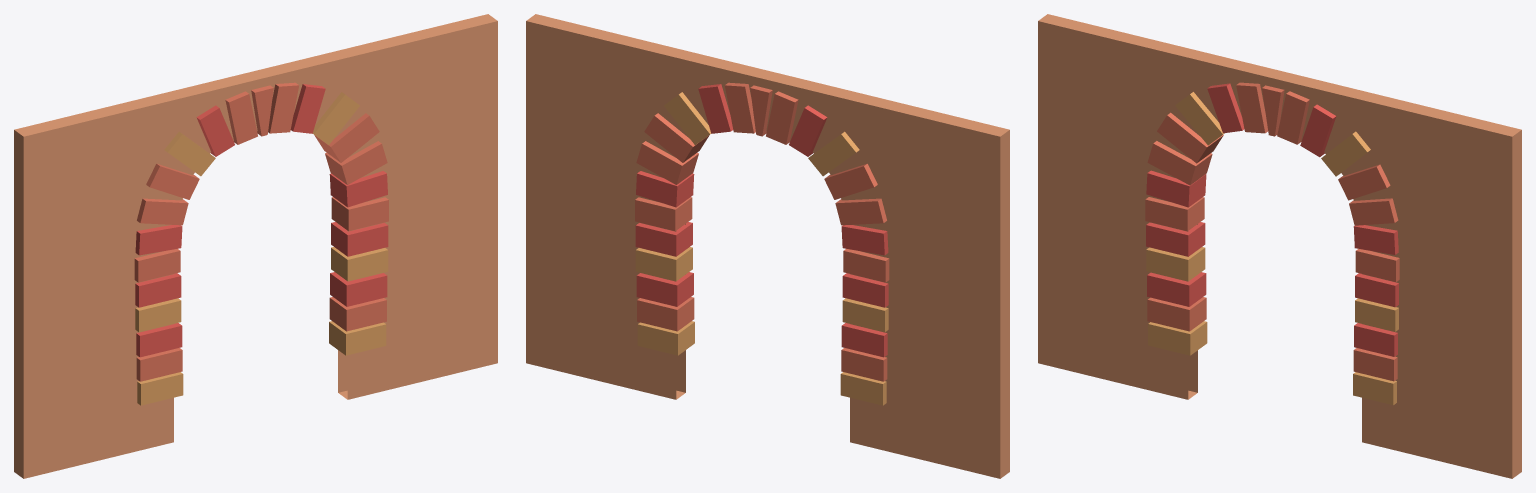
Rendered from wall arch.fbx.
3 renders of one model, left to right at view 1: azimuth 30°, elevation 25°; view 2: azimuth 150°, elevation 25°; view 3: azimuth 330°, elevation 25°, orthographic.
Visible parts, largest first — view 1: polySurface970, polySurface977, polySurface958, polySurface959, polySurface975, polySurface979, polySurface976, polySurface960, polySurface973, polySurface974, polySurface978, polySurface969 (+14 smaller); view 2: polySurface970, polySurface977, polySurface958, polySurface959, polySurface975, polySurface979, polySurface976, polySurface960, polySurface973, polySurface974, polySurface978, polySurface969 (+14 smaller); view 3: polySurface970, polySurface965, polySurface963, polySurface962, polySurface967, polySurface964, polySurface966, polySurface969, polySurface961, polySurface968, polySurface982, polySurface981 (+14 smaller).
Part boxes in pixels (left/top/right/bottom): polySurface970: left=14, top=14, right=497, bottom=478; polySurface977: left=330, top=272, right=387, bottom=306; polySurface958: left=331, top=222, right=388, bottom=256; polySurface959: left=331, top=247, right=388, bottom=281; polySurface975: left=329, top=297, right=386, bottom=331; polySurface979: left=331, top=197, right=388, bottom=231; polySurface976: left=329, top=321, right=386, bottom=355; polySurface960: left=329, top=171, right=387, bottom=207; polySurface973: left=325, top=141, right=387, bottom=184; polySurface974: left=314, top=113, right=379, bottom=162; polySurface978: left=268, top=82, right=298, bottom=133; polySurface969: left=137, top=198, right=188, bottom=225; polySurface970: left=526, top=14, right=1009, bottom=478; polySurface977: left=636, top=272, right=693, bottom=306; polySurface958: left=635, top=222, right=692, bottom=256; polySurface959: left=635, top=247, right=692, bottom=281; polySurface975: left=637, top=297, right=694, bottom=331; polySurface979: left=635, top=197, right=692, bottom=231; polySurface976: left=637, top=321, right=694, bottom=355; polySurface960: left=636, top=171, right=694, bottom=207; polySurface973: left=636, top=141, right=698, bottom=184; polySurface974: left=644, top=113, right=709, bottom=162; polySurface978: left=725, top=82, right=755, bottom=133; polySurface969: left=835, top=198, right=886, bottom=225; polySurface970: left=1038, top=14, right=1521, bottom=478; polySurface965: left=1147, top=272, right=1206, bottom=306; polySurface963: left=1146, top=222, right=1205, bottom=256; polySurface962: left=1146, top=247, right=1205, bottom=281; polySurface967: left=1147, top=297, right=1206, bottom=331; polySurface964: left=1145, top=197, right=1204, bottom=231; polySurface966: left=1148, top=321, right=1207, bottom=355; polySurface969: left=1147, top=141, right=1212, bottom=185; polySurface961: left=1146, top=170, right=1206, bottom=207; polySurface968: left=1157, top=112, right=1223, bottom=163; polySurface982: left=1236, top=82, right=1267, bottom=133; polySurface981: left=1175, top=92, right=1224, bottom=145.
Bounding box in the file's own units: 5 × 3.45 × 0.3081.
